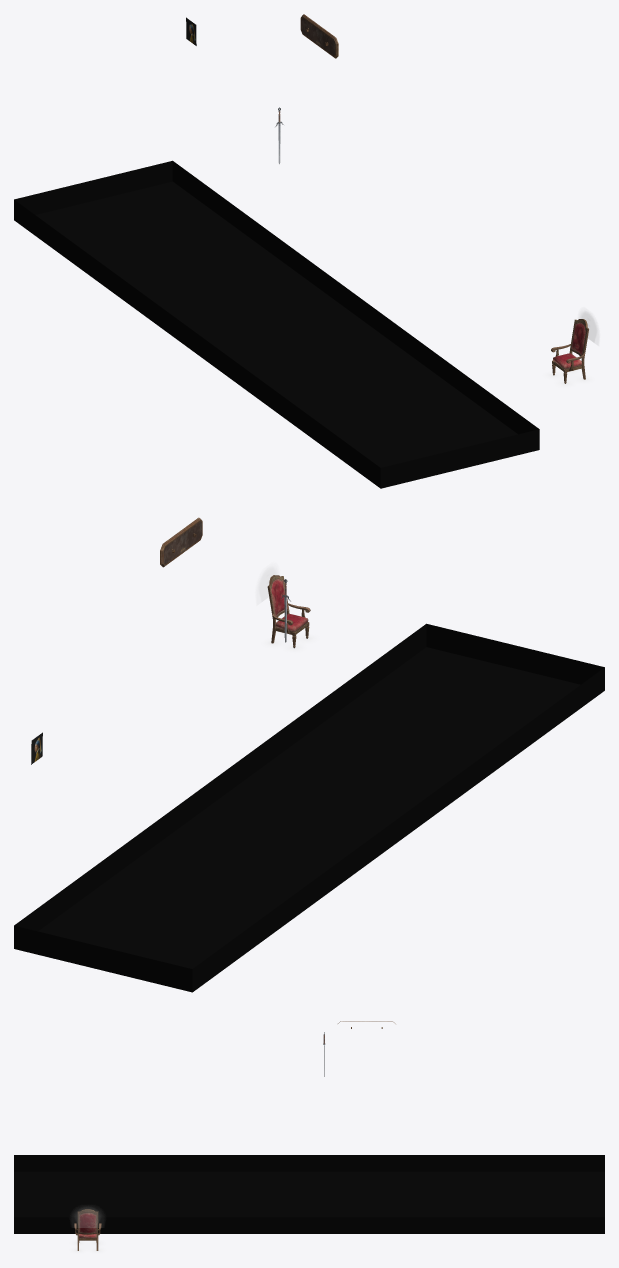
File: anomaly.gltf
3 renders of one model, top to bottom at view 1: azimuth 30°, elevation 25°; view 2: azimuth 150°, elevation 25°; view 3: azimuth 270°, elevation 25°, orthographic. The views are drawn at different scales.
Visible parts, largest first — view 1: floor_none_anomaly, chair_outside_anomaly, sword_anomaly; view 2: floor_none_anomaly, chair_outside_anomaly, sword_anomaly; view 3: floor_none_anomaly, chair_outside_anomaly, chair_outside_shadow_anomaly.
Part boxes in pixels (x1=…): floor_none_anomaly: x1=14, y1=160, x2=539, y2=488; chair_outside_anomaly: x1=551, y1=319, x2=588, y2=383; sword_anomaly: x1=275, y1=14, x2=338, y2=164; floor_none_anomaly: x1=14, y1=623, x2=604, y2=992; chair_outside_anomaly: x1=267, y1=575, x2=310, y2=648; sword_anomaly: x1=160, y1=517, x2=290, y2=642; floor_none_anomaly: x1=14, y1=1155, x2=604, y2=1233; chair_outside_anomaly: x1=74, y1=1209, x2=101, y2=1250; chair_outside_shadow_anomaly: x1=73, y1=1207, x2=102, y2=1252.
Size of the model in its own units: 6.4 by 6.35 by 16.
Materials: 5 (4 with a texture image).
